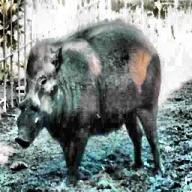boar: (14, 20, 164, 186)
